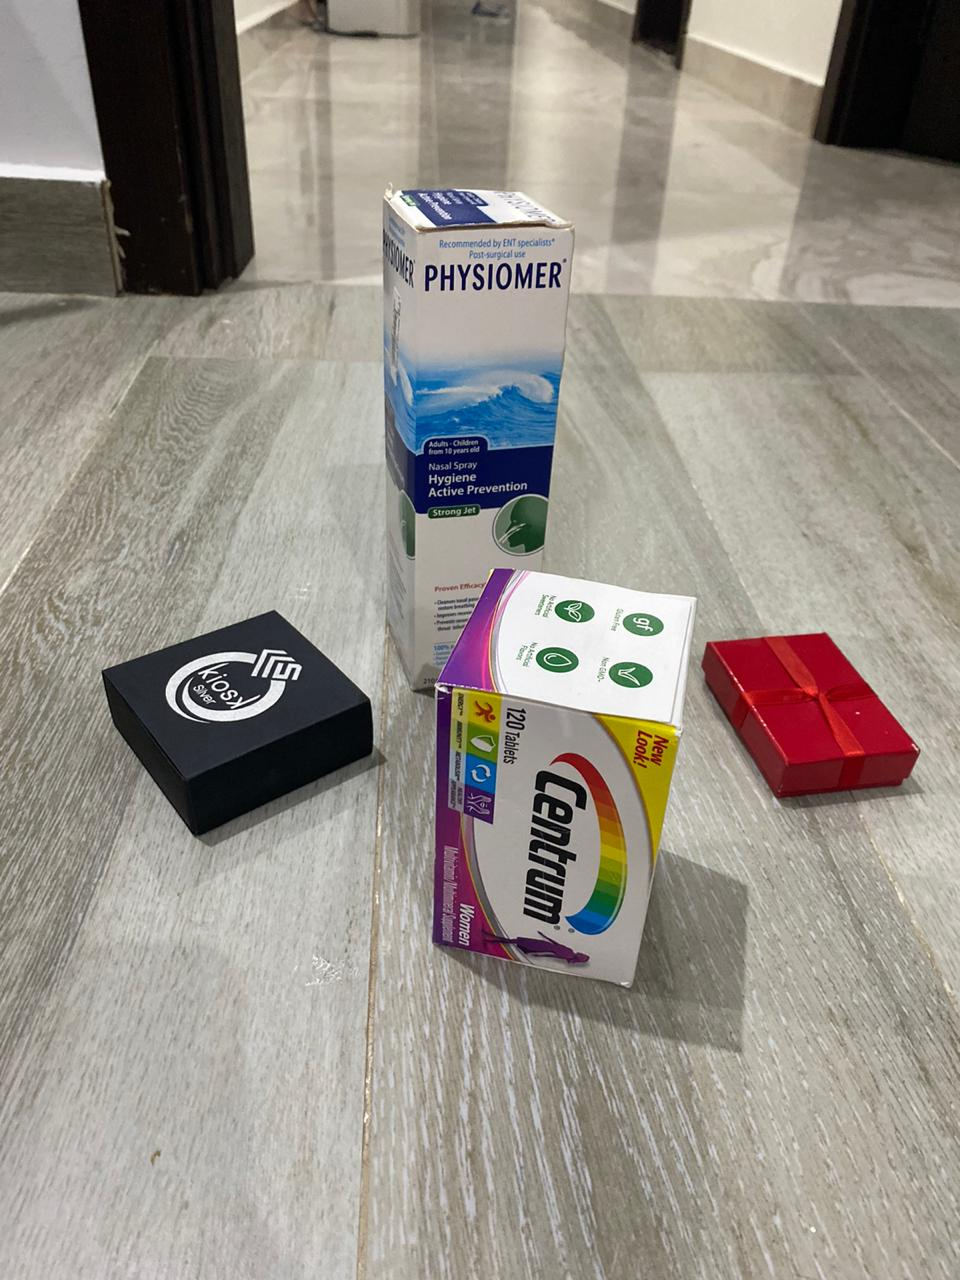Black Box: (698, 633, 927, 796)
Centrum: (438, 570, 702, 1000)
Physiomer: (375, 179, 583, 697)
Red Box: (97, 608, 376, 842)
